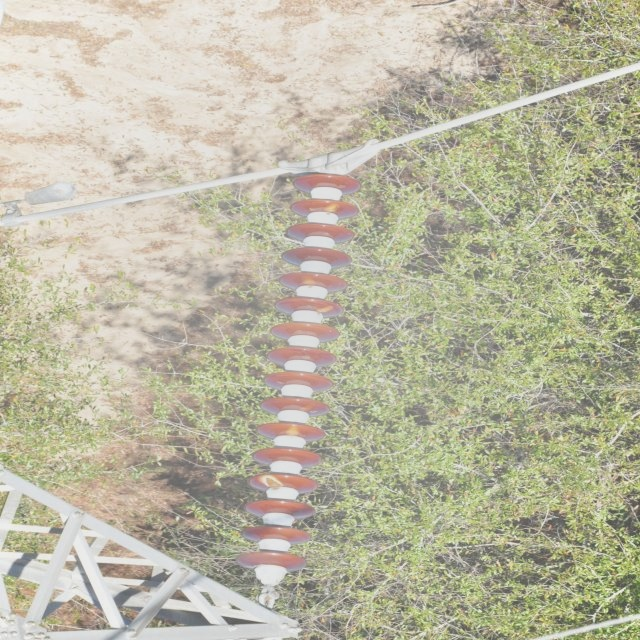insulator: (237, 171, 359, 569)
